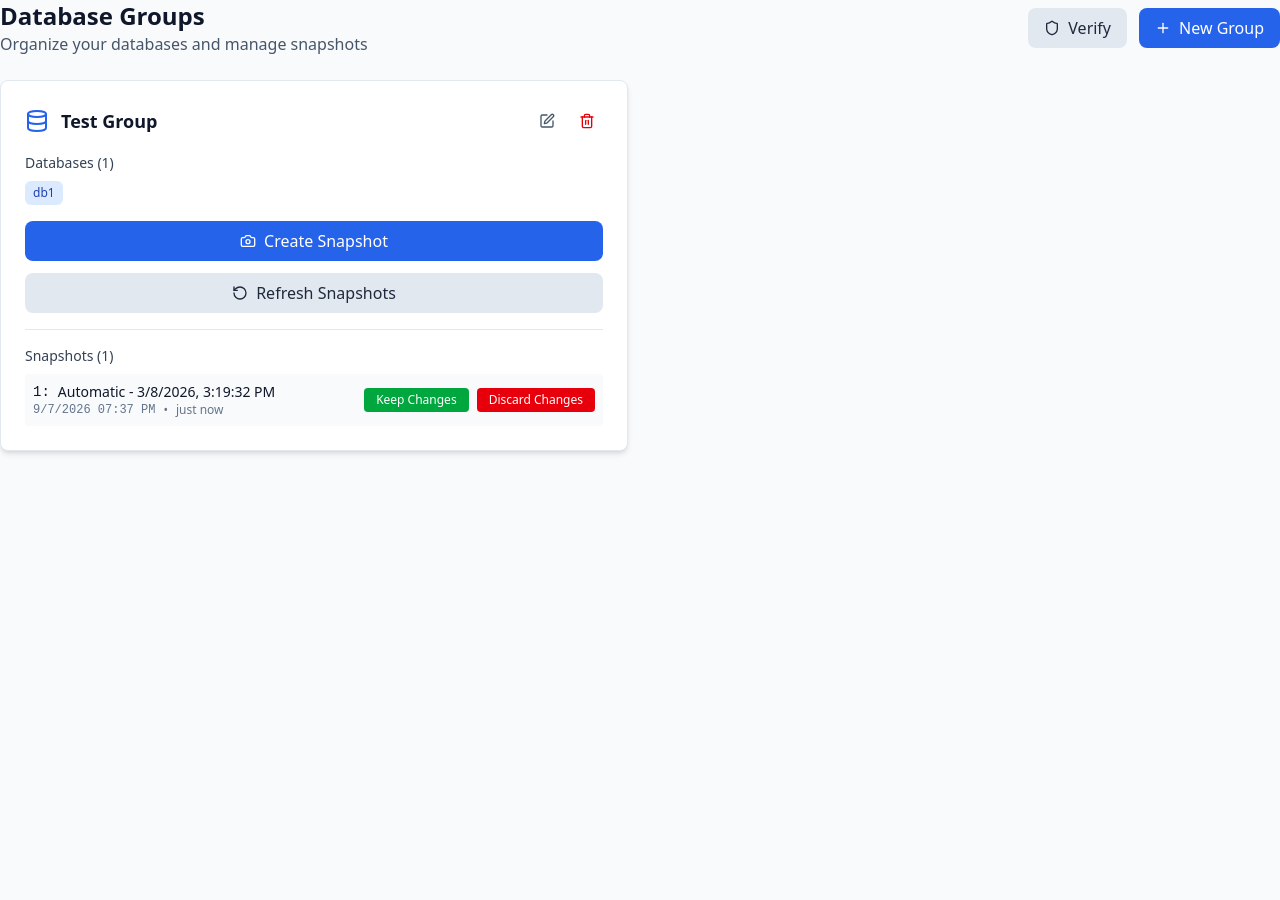
Scenario: GroupsManager - Discard Changes Modal › should show checkbox checked when autoCreateCheckpoint setting is true
This screenshot has width=1280, height=900.
Check: the heading "Test Group" is shown, box [61, 107, 158, 135]
Click the button "Discard Changes" at (536, 400), box [477, 388, 595, 412]
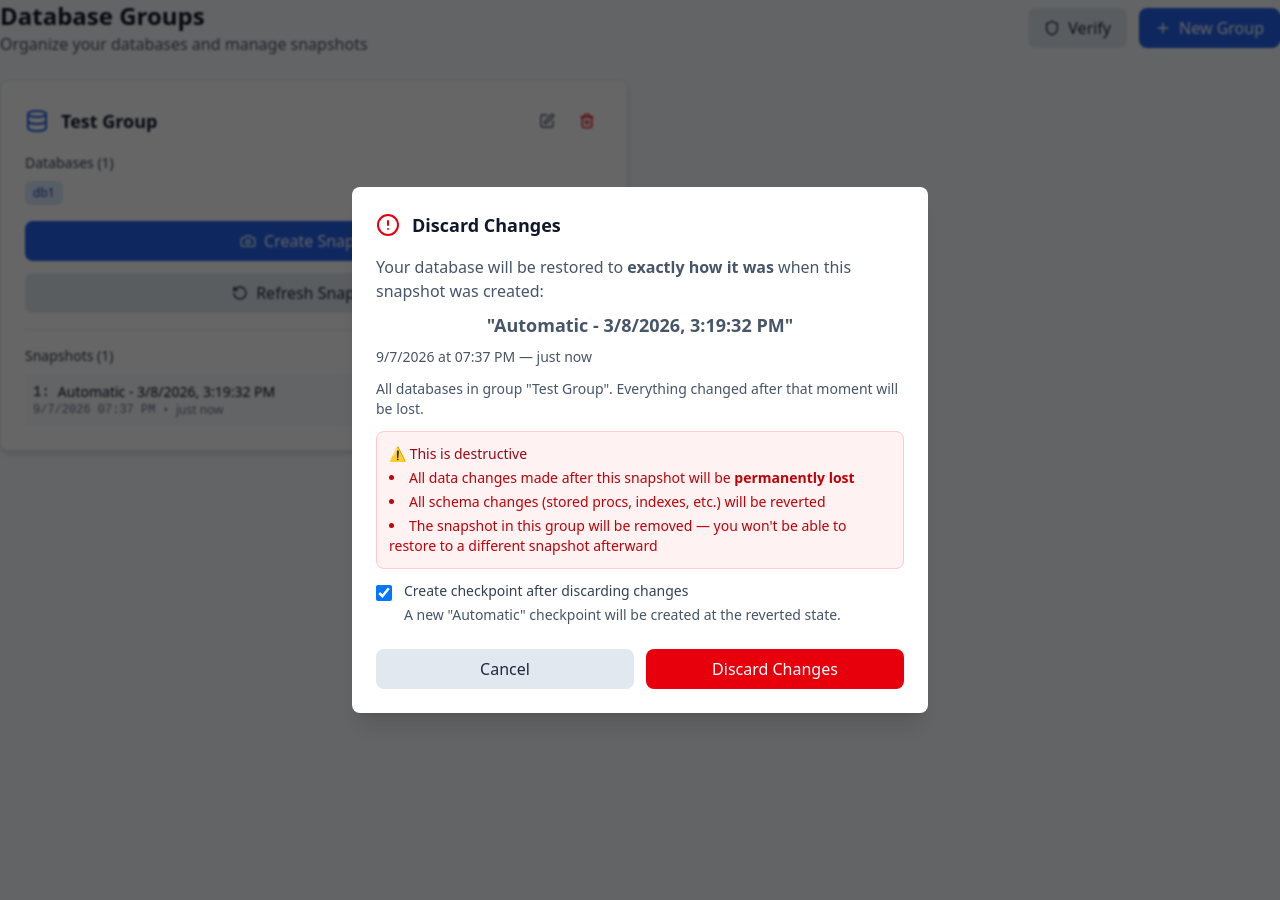
Check: the dialog "Discard Changes" is shown
Check: the checkbox labelled "Create checkpoint after discarding changes" is checked, box [376, 585, 392, 601]
Check: the text "will be created" is shown, box [605, 605, 700, 624]
